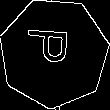P_E: (28, 33, 80, 73)
